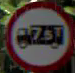Heavy Vehicles: (5, 0, 73, 70)
